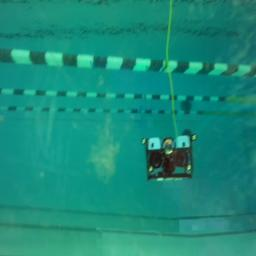front: (140, 132, 198, 183)
